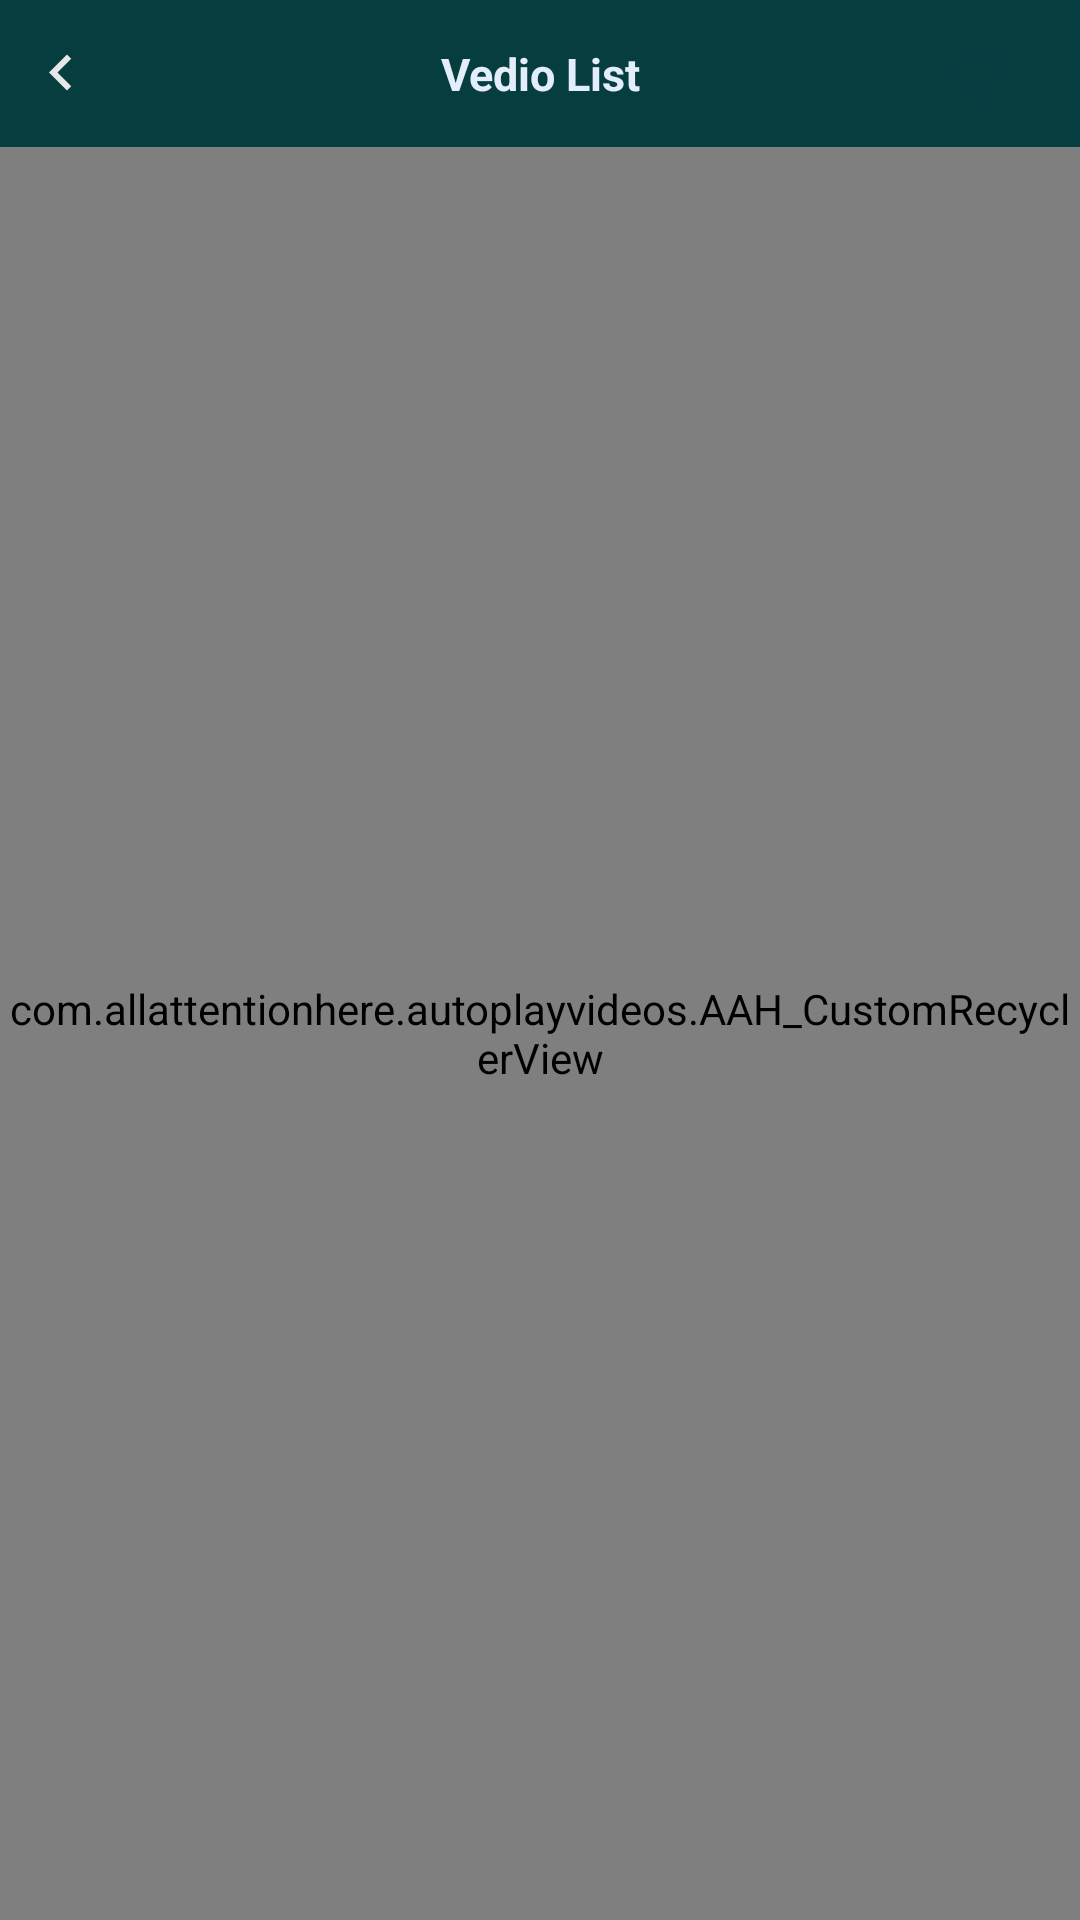

Where icons sit on this 1080*1920 app screen, as (x1, y1, x2, y2):
keyboard arrow left: (49, 54, 71, 91)
